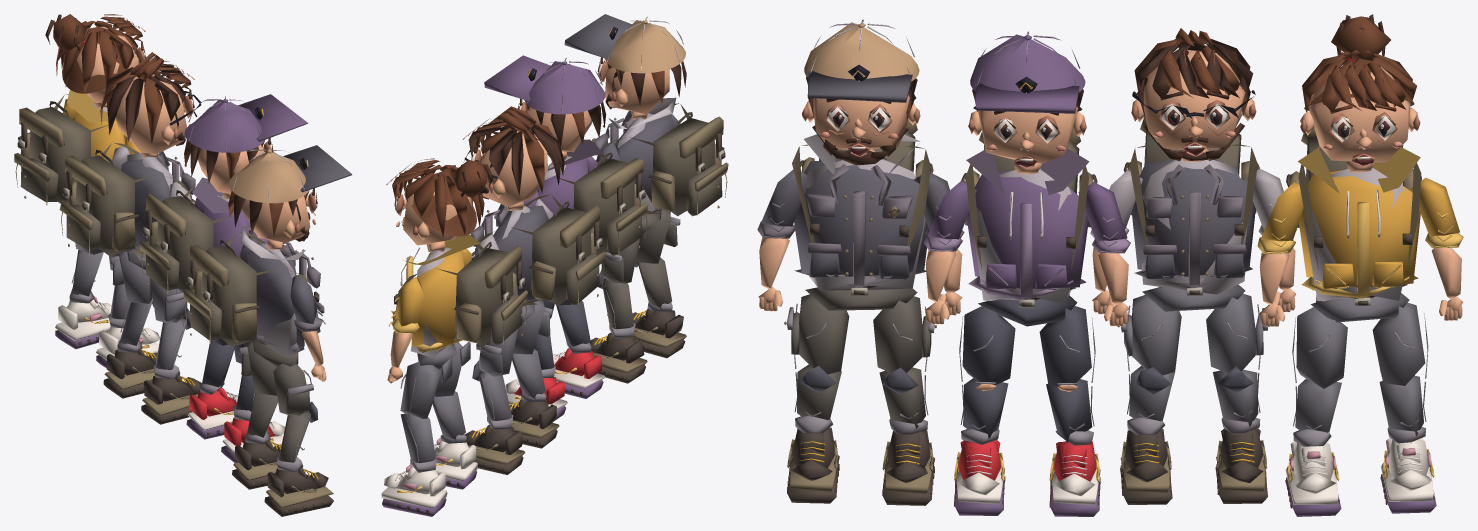
File: npc.survivor-group.lod1.glb
The picture shows the model from 3 angles, left to right: view 1: azimuth 30°, elevation 25°; view 2: azimuth 150°, elevation 25°; view 3: azimuth 270°, elevation 25°; orthographic projection. The views are drawn at different scales.
Parts seen in each view (by area): view 1: head, survivor03_head, survivor02_head, survivor03_backpackSocket_mesh, backpackSocket_mesh, survivor04_head, torso, survivor04_backpackSocket_mesh, survivor02_backpackSocket_mesh, survivor03_torso, footR, survivor03_footR (+23 smaller); view 2: head, survivor02_head, survivor04_head, survivor03_head, backpackSocket_mesh, survivor03_backpackSocket_mesh, survivor04_backpackSocket_mesh, survivor02_backpackSocket_mesh, survivor04_torso, torso, survivor03_torso, survivor04_footL (+25 smaller); view 3: torso, survivor02_torso, survivor04_torso, survivor03_torso, head, survivor04_head, survivor03_head, survivor02_head, survivor04_footL, survivor02_footR, survivor02_footL, survivor04_footR (+41 smaller).
Part boxes in pixels (x1=…): head: x1=228, y1=145, x2=351, y2=250; survivor03_head: x1=100, y1=52, x2=201, y2=157; survivor02_head: x1=184, y1=94, x2=307, y2=199; survivor03_backpackSocket_mesh: x1=59, y1=149, x2=138, y2=256; backpackSocket_mesh: x1=183, y1=240, x2=259, y2=346; survivor04_head: x1=45, y1=14, x2=146, y2=108; torso: x1=225, y1=226, x2=324, y2=357; survivor04_backpackSocket_mesh: x1=14, y1=101, x2=90, y2=205; survivor02_backpackSocket_mesh: x1=140, y1=190, x2=213, y2=295; survivor03_torso: x1=100, y1=142, x2=195, y2=260; footR: x1=264, y1=468, x2=333, y2=516; survivor03_footR: x1=141, y1=375, x2=201, y2=424; head: x1=564, y1=14, x2=686, y2=119; survivor02_head: x1=484, y1=55, x2=606, y2=159; survivor04_head: x1=386, y1=158, x2=493, y2=252; survivor03_head: x1=462, y1=106, x2=564, y2=210; backpackSocket_mesh: x1=648, y1=112, x2=728, y2=216; survivor03_backpackSocket_mesh: x1=529, y1=201, x2=605, y2=305; survivor04_backpackSocket_mesh: x1=454, y1=242, x2=527, y2=346; survivor02_backpackSocket_mesh: x1=573, y1=152, x2=648, y2=256; survivor04_torso: x1=391, y1=234, x2=483, y2=357; torso: x1=592, y1=97, x2=689, y2=220; survivor03_torso: x1=470, y1=194, x2=563, y2=306; survivor04_footL: x1=381, y1=464, x2=447, y2=516; torso: x1=792, y1=134, x2=930, y2=291; survivor02_torso: x1=966, y1=148, x2=1089, y2=303; survivor04_torso: x1=1298, y1=147, x2=1421, y2=301; survivor03_torso: x1=1129, y1=144, x2=1257, y2=294; head: x1=802, y1=19, x2=920, y2=165; survivor04_head: x1=1300, y1=14, x2=1420, y2=172; survivor03_head: x1=1131, y1=28, x2=1256, y2=161; survivor02_head: x1=968, y1=31, x2=1086, y2=174; survivor04_footL: x1=1380, y1=437, x2=1436, y2=513; survivor02_footR: x1=954, y1=440, x2=1005, y2=515; survivor02_footL: x1=1049, y1=441, x2=1100, y2=516; survivor04_footR: x1=1285, y1=441, x2=1341, y2=516.
Bounding box in the file's own units: 0.8552 × 1.77 × 2.48.
